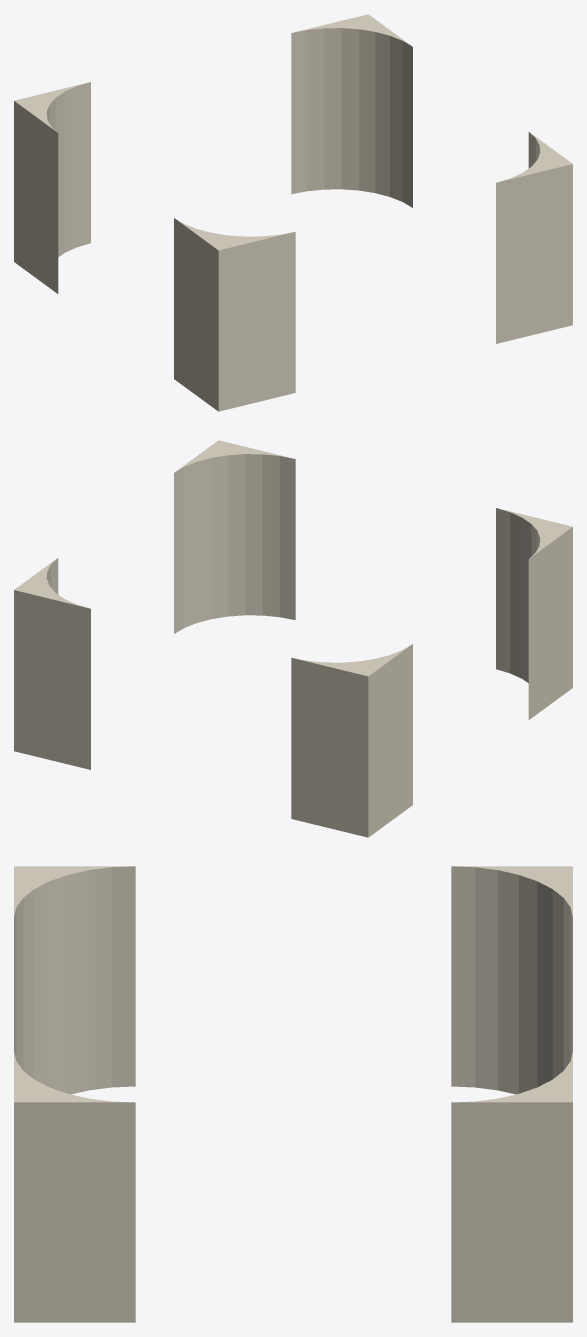
Rendered from paper.glb.
The picture shows the model from 3 angles, top to bottom: view 1: azimuth 30°, elevation 25°; view 2: azimuth 150°, elevation 25°; view 3: azimuth 270°, elevation 25°; orthographic projection. The views are drawn at different scales.
Visible parts, largest first — view 1: CollectedCorner_-1_1, CollectedCorner_1_-1, CollectedCorner_-1_-1, CollectedCorner_1_1; view 2: CollectedCorner_-1_-1, CollectedCorner_1_1, CollectedCorner_-1_1, CollectedCorner_1_-1; view 3: CollectedCorner_1_-1, CollectedCorner_1_1, CollectedCorner_-1_-1, CollectedCorner_-1_1.
Part boxes in pixels (x1,y1,x2,y2): CollectedCorner_-1_1: (174,218,295,411); CollectedCorner_1_-1: (291,14,412,207); CollectedCorner_-1_-1: (14,82,90,293); CollectedCorner_1_1: (496,132,572,343); CollectedCorner_-1_-1: (291,644,412,837); CollectedCorner_1_1: (174,440,295,633); CollectedCorner_-1_1: (496,508,572,719); CollectedCorner_1_-1: (14,558,90,769); CollectedCorner_1_-1: (451,1052,572,1322); CollectedCorner_1_1: (14,1052,135,1322); CollectedCorner_-1_-1: (451,866,572,1094); CollectedCorner_-1_1: (14,866,135,1094).
Size of the model in its own units: 0.046 by 0.02 by 0.046.
